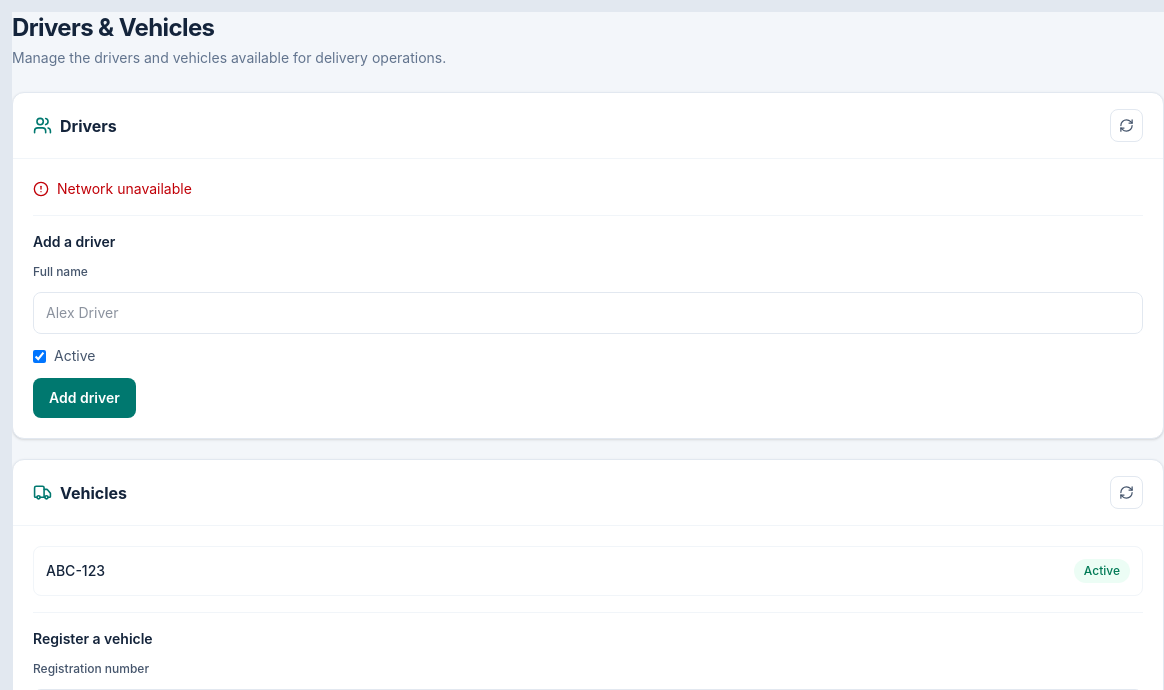
Test case: FleetManagementPage › retries loading drivers after a request failure
Expected: the text "Network unavailable" is shown, [33, 180, 192, 197]
Click the button named "Refresh drivers": (1126, 126) [1110, 109, 1143, 142]
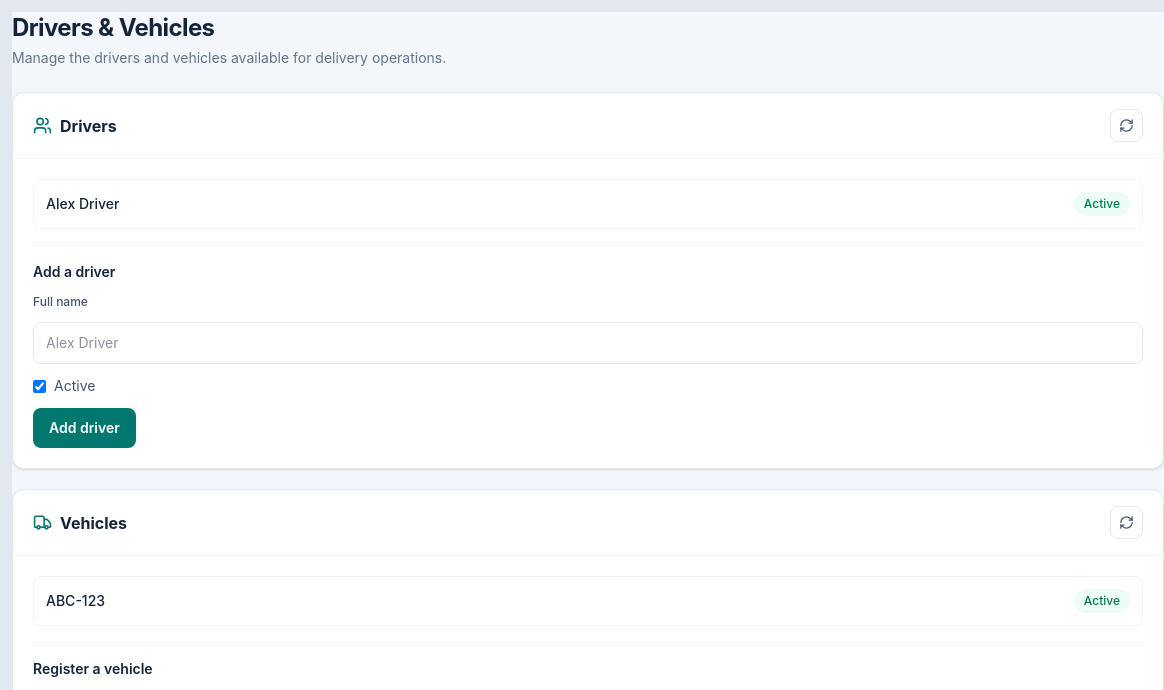
Expected: the text "Alex Driver" is shown, [46, 194, 120, 214]
